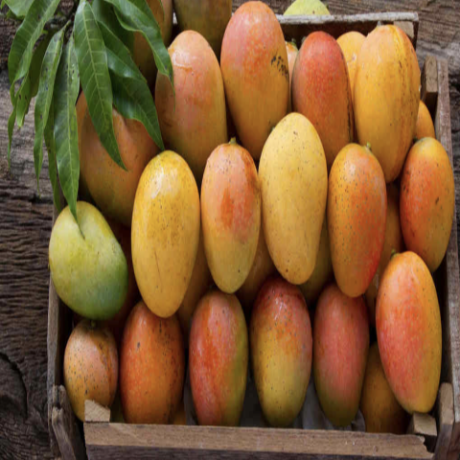mango: (253, 103, 335, 300), (345, 24, 433, 204), (127, 138, 204, 324), (370, 235, 446, 414), (211, 4, 292, 160), (323, 137, 400, 299), (189, 268, 254, 456), (40, 200, 124, 333), (193, 129, 262, 286), (305, 267, 370, 418), (396, 134, 457, 286)
